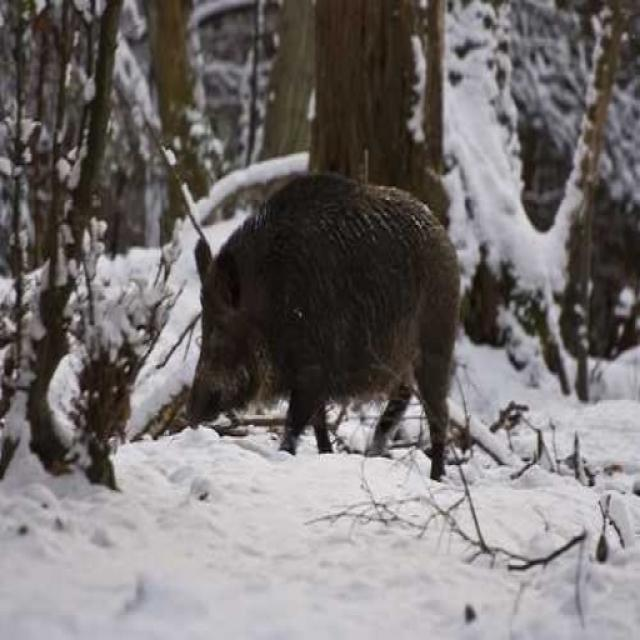pig: (127, 79, 584, 474)
